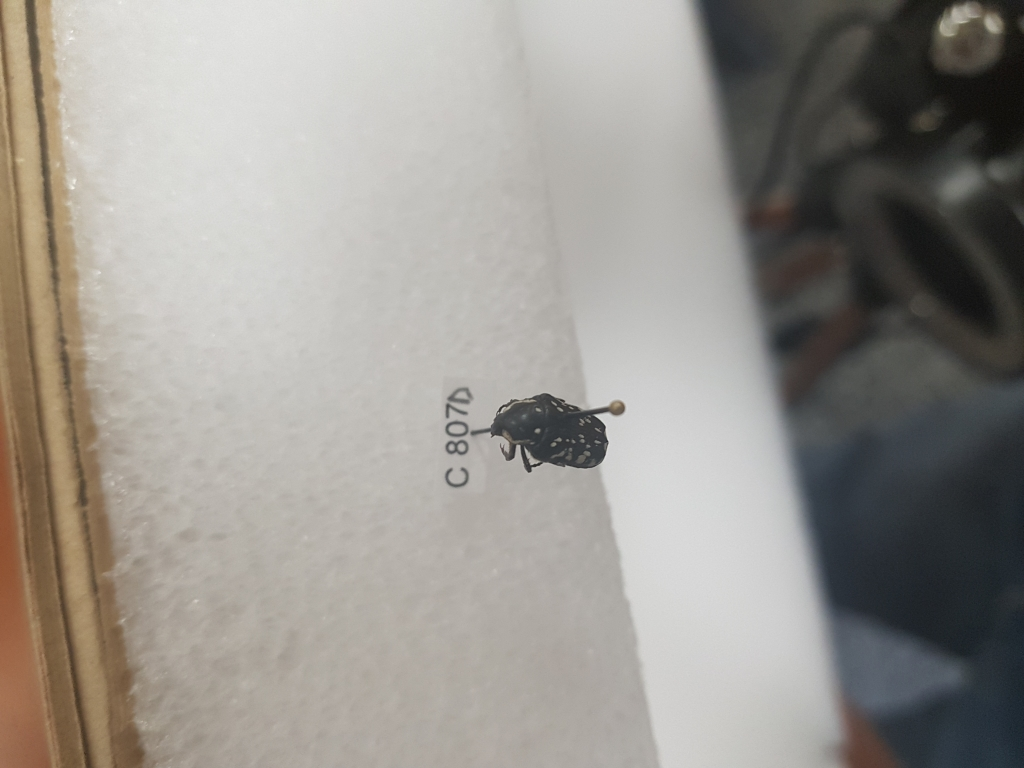Oxythyrea_albopicta: (485, 387, 615, 471)
